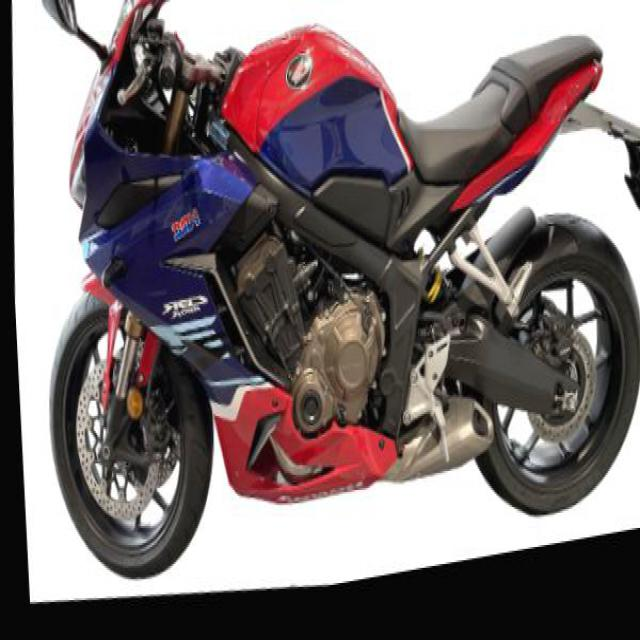CBR650R: (21, 0, 639, 636)
